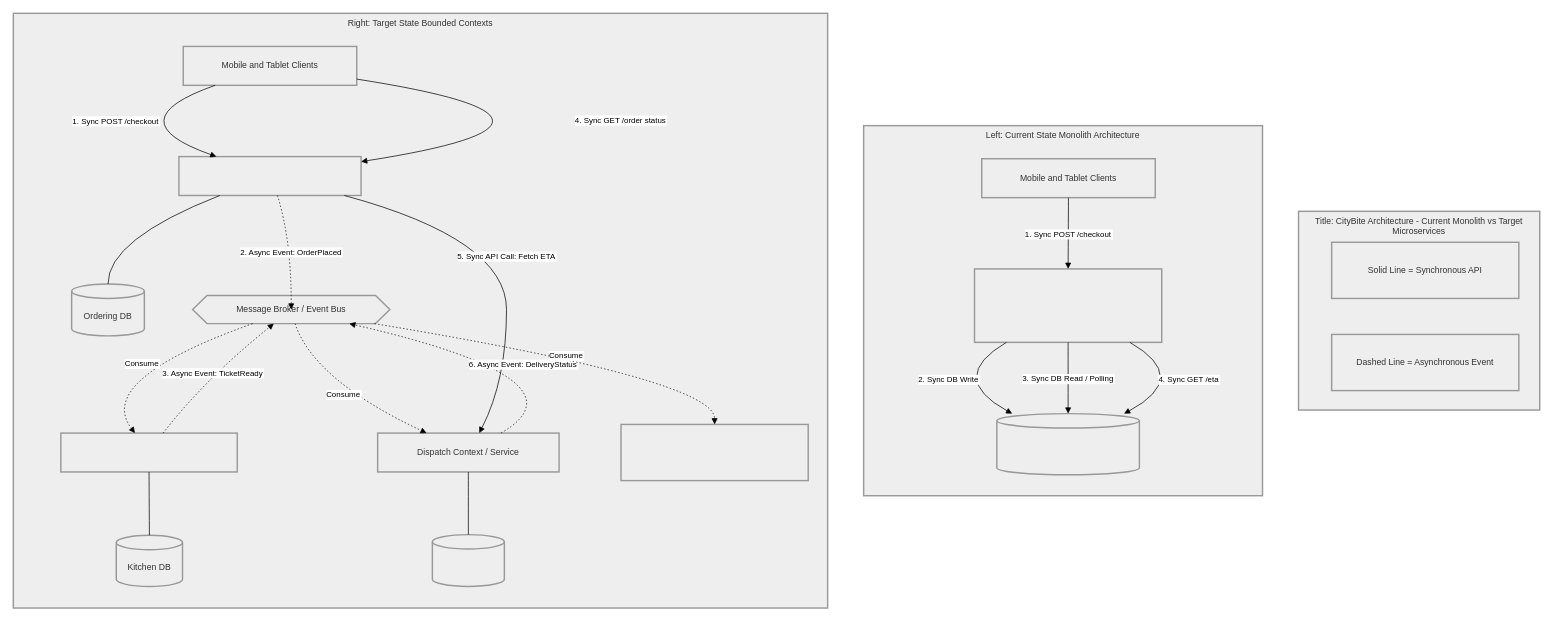
This 1552x621 diagram has some shape labels left out. The centre of each missing label's shape, as x and y in pixels:
CityBite Monolith Application Ordering, Kitchen, Dispatch: (1067,305)
Dispatch DB: (468,560)
Kitchen Context / Service: (149,452)
Notifications Context / Service: (714,452)
Ordering Context / Service: (269,176)
Shared Postgres Database: (1068,444)
